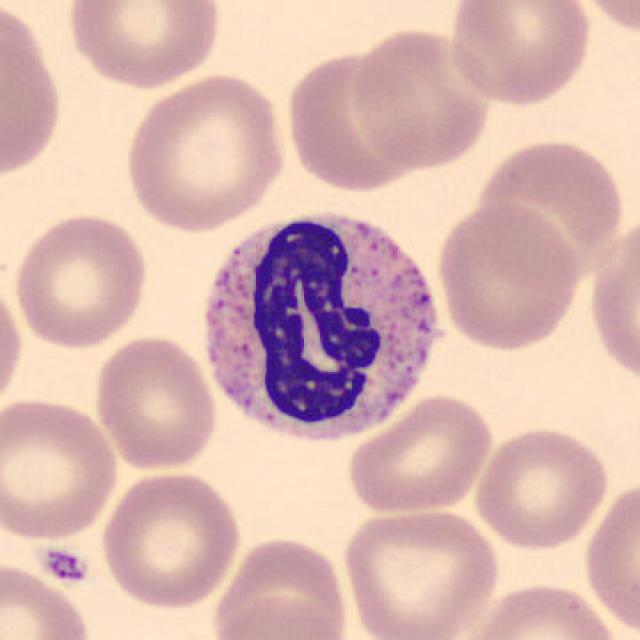Neutrophil: (190, 196, 452, 453)
Platelets: (41, 545, 91, 587)
RBC: (121, 70, 290, 234), (283, 38, 439, 195), (471, 134, 629, 282), (432, 201, 583, 353), (338, 502, 503, 640), (347, 23, 496, 173), (96, 467, 244, 610), (9, 208, 153, 351), (343, 392, 496, 516), (89, 333, 220, 474), (0, 393, 121, 545), (471, 423, 612, 552), (444, 0, 595, 109), (210, 532, 354, 640), (62, 0, 226, 92), (0, 0, 66, 185), (452, 578, 624, 640), (585, 208, 638, 388), (580, 474, 638, 636), (1, 557, 96, 640), (212, 592, 350, 640), (0, 273, 27, 416), (574, 0, 638, 39)
